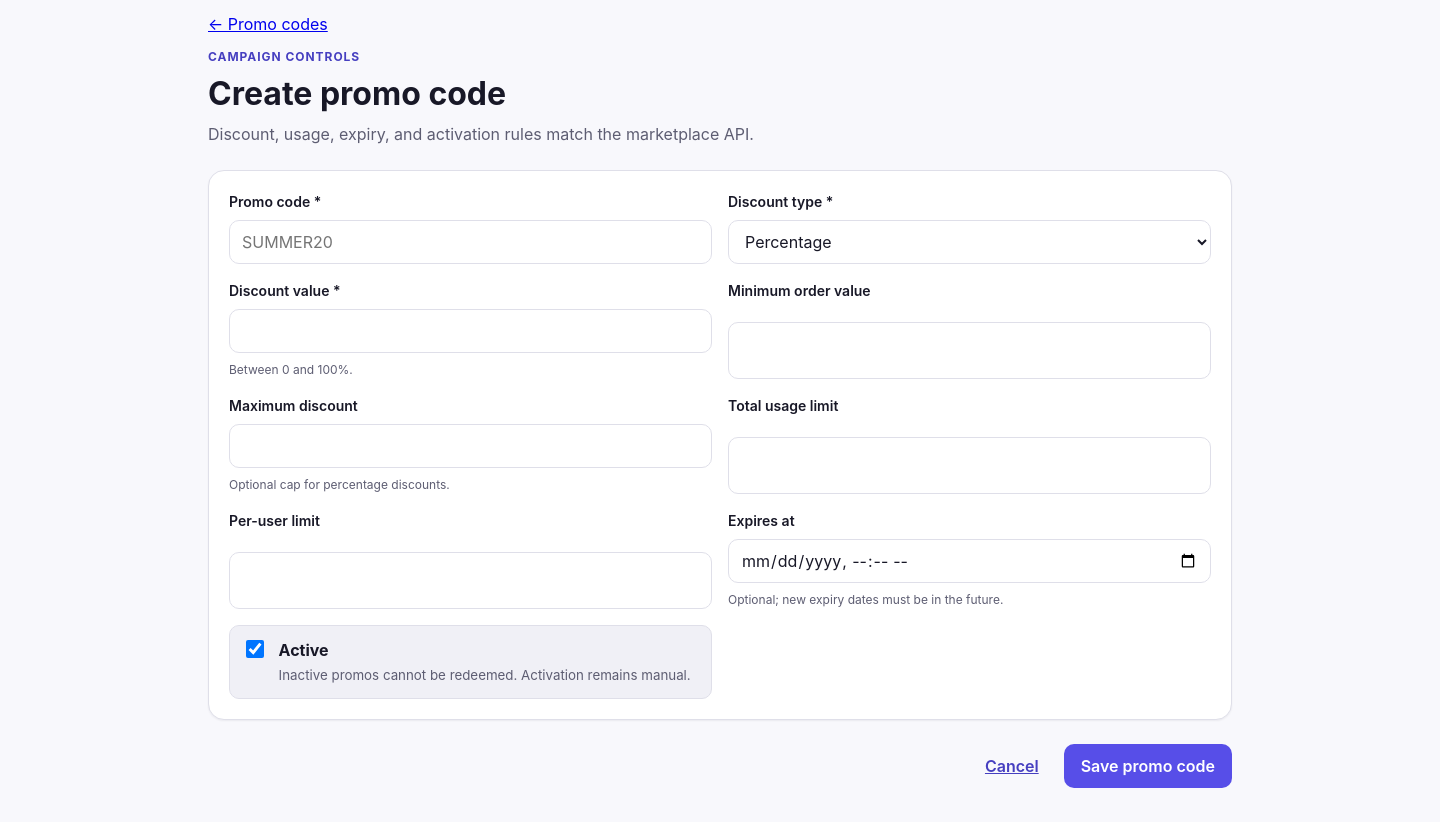
Test: admin promo management › blocks invalid percentage and past-expiry create cases locally
In the field labelled "Promo code *": {"x": 470, "y": 242} [229,220,712,264], type "badpromo"
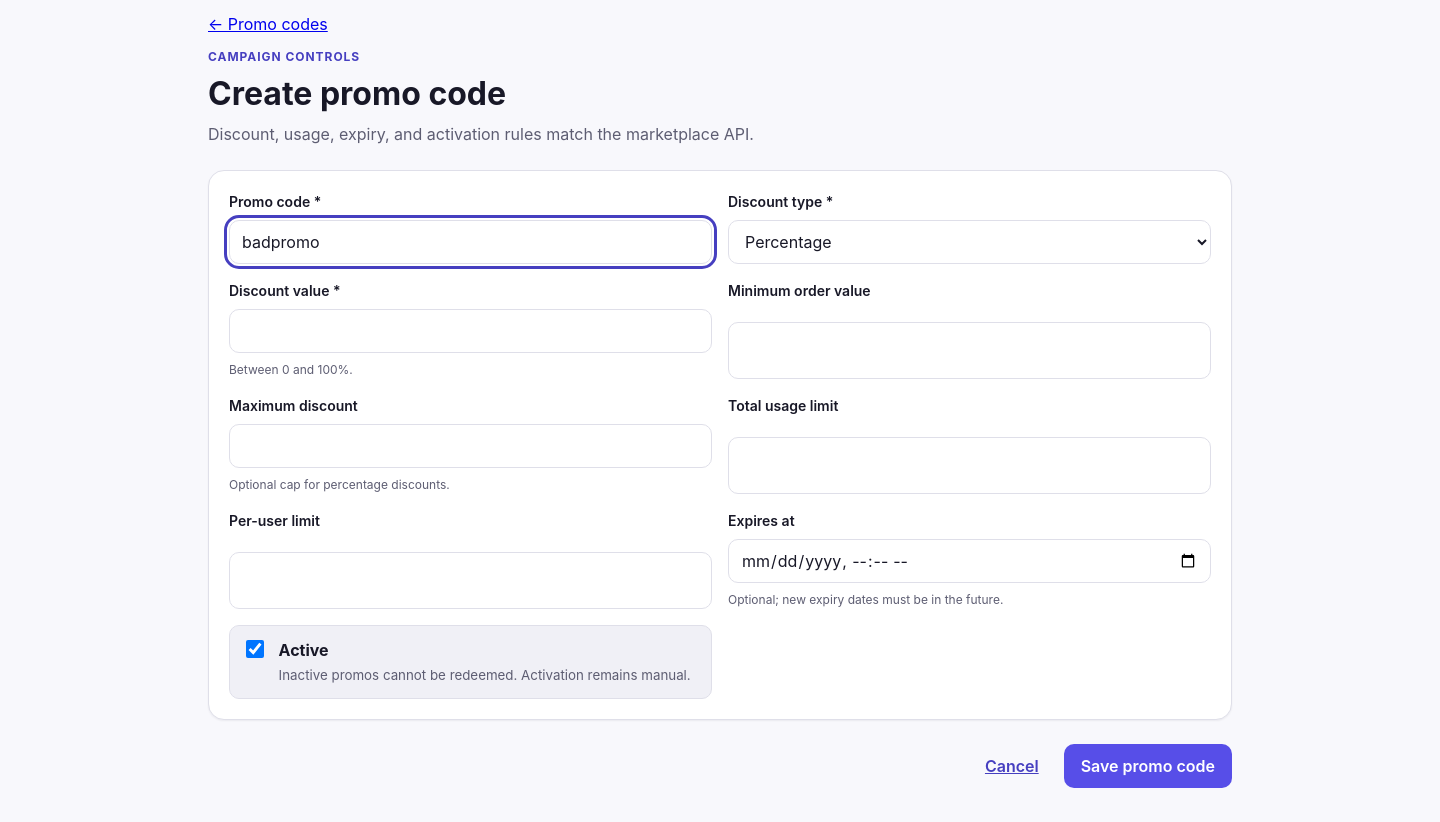
In the number field labelled "Discount value *": {"x": 470, "y": 331} [229,309,712,353], type "150"
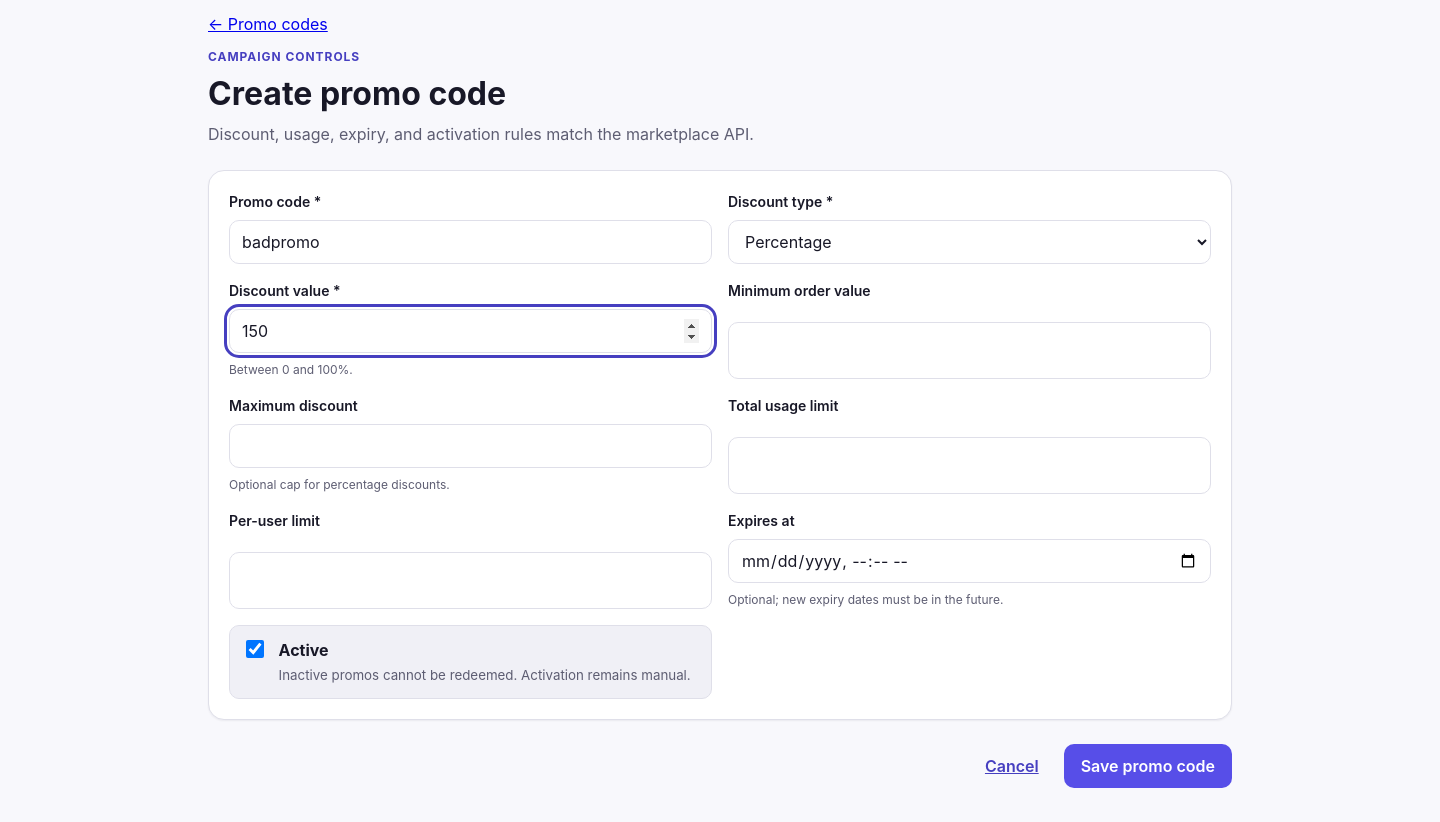
Click the button "Save promo code": {"x": 1148, "y": 766} [1064,744,1232,788]
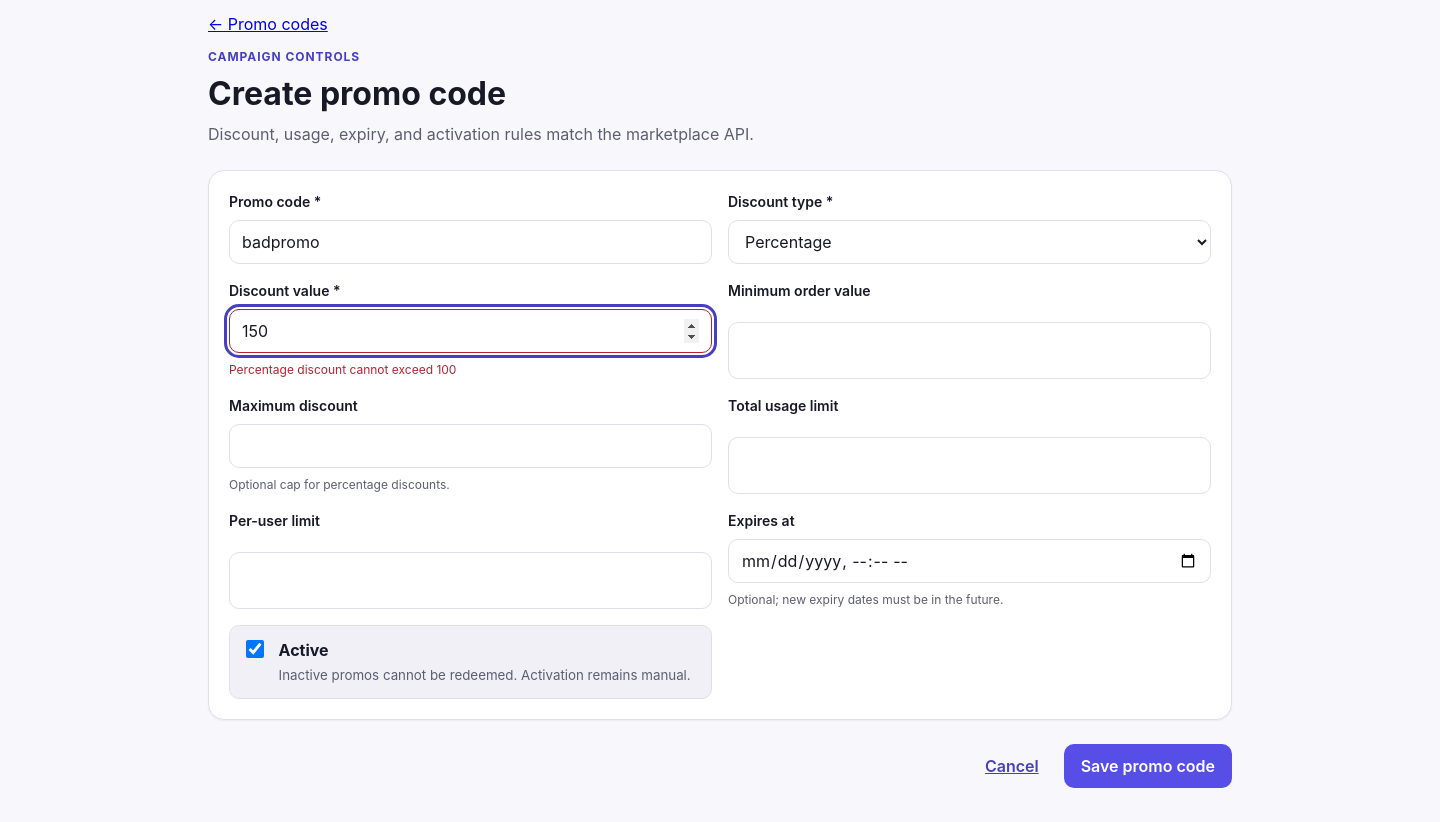
Expected: the text "Percentage discount cannot exceed 100" is shown, [229,362,456,377]
Replace the text in the number field labelled "Discount value *" with "20": {"x": 470, "y": 331} [229,309,712,353]
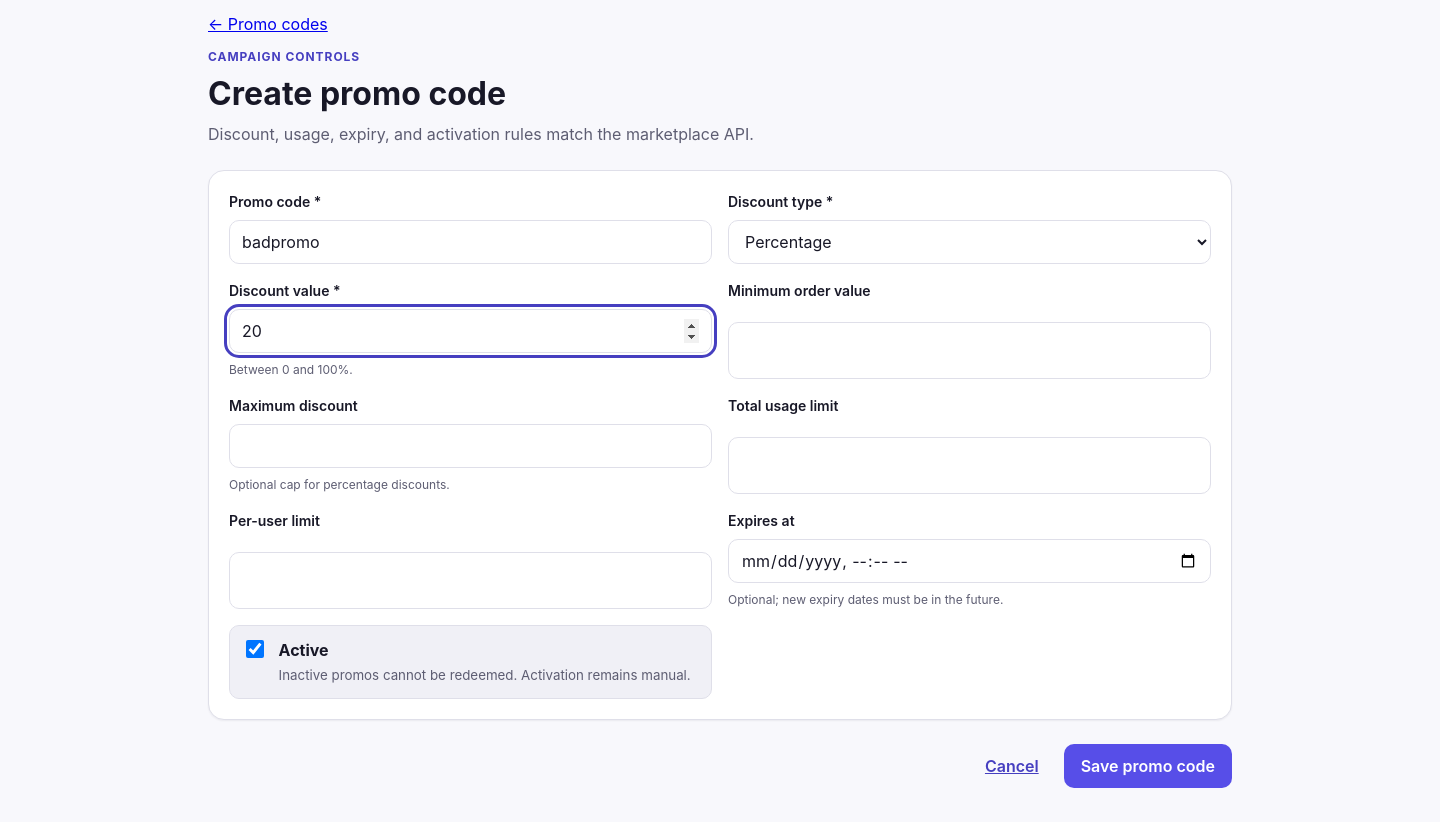
In the field labelled "Expires at": {"x": 970, "y": 561} [728,539,1211,583], type "2020-01-01T00:00"
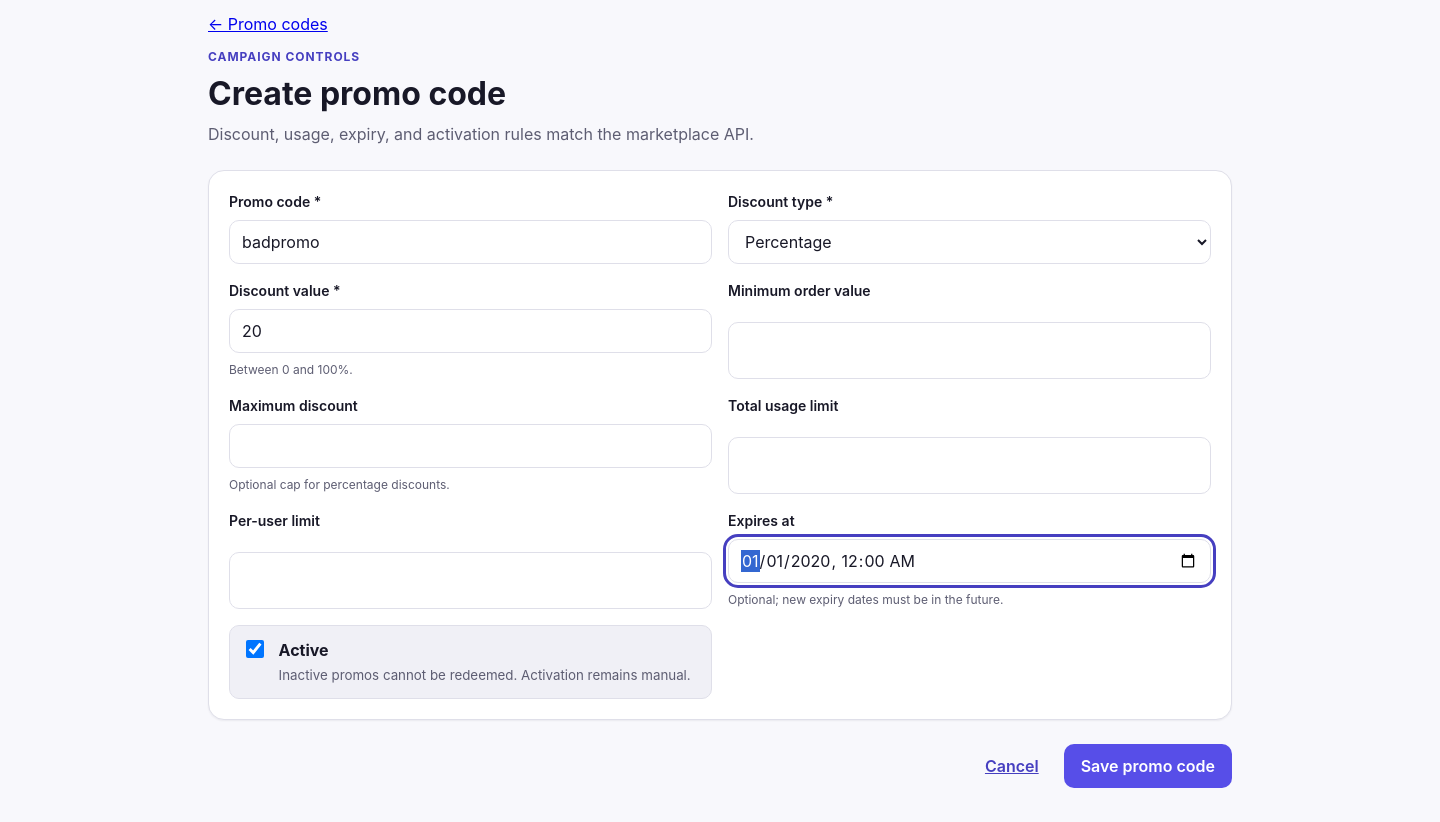
Click the button "Save promo code": {"x": 1148, "y": 766} [1064,744,1232,788]
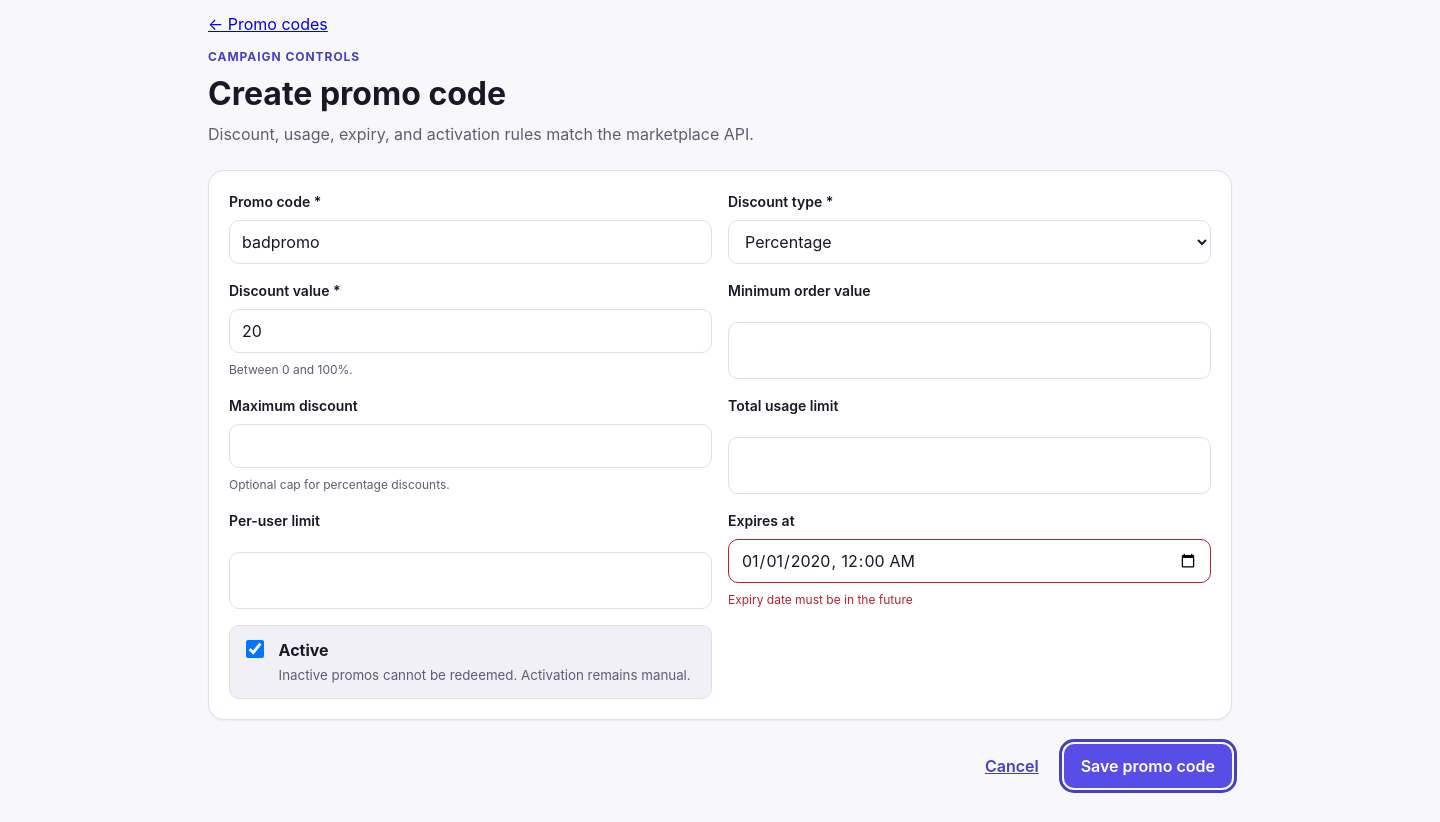
Expected: the text "Expiry date must be in the future" is shown, [728,592,913,607]
